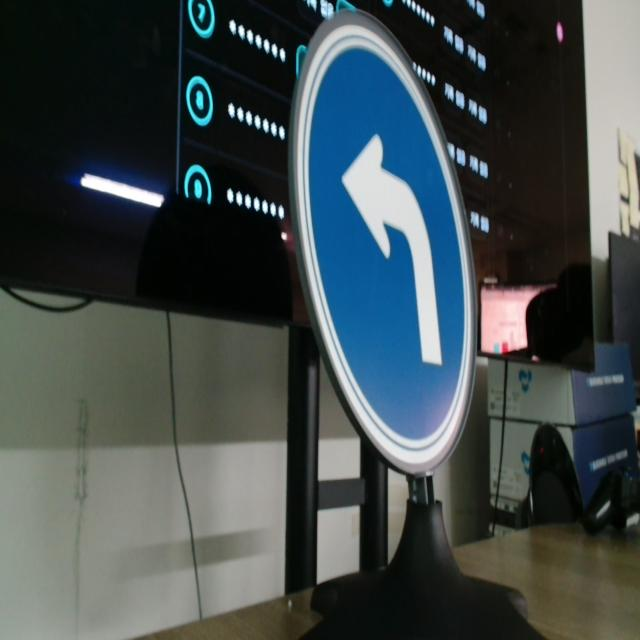left_direction: (273, 0, 509, 565)
